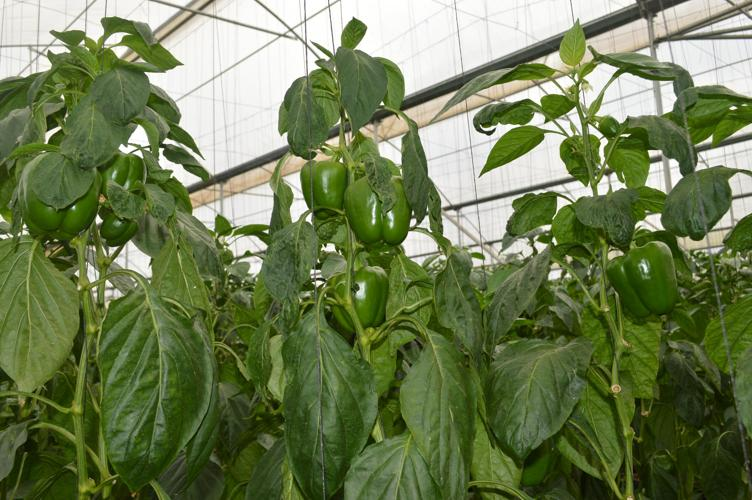BellPepper: (587, 238, 686, 332), (15, 148, 94, 245), (310, 262, 396, 348), (338, 170, 425, 247), (293, 154, 353, 219), (89, 139, 147, 202)
